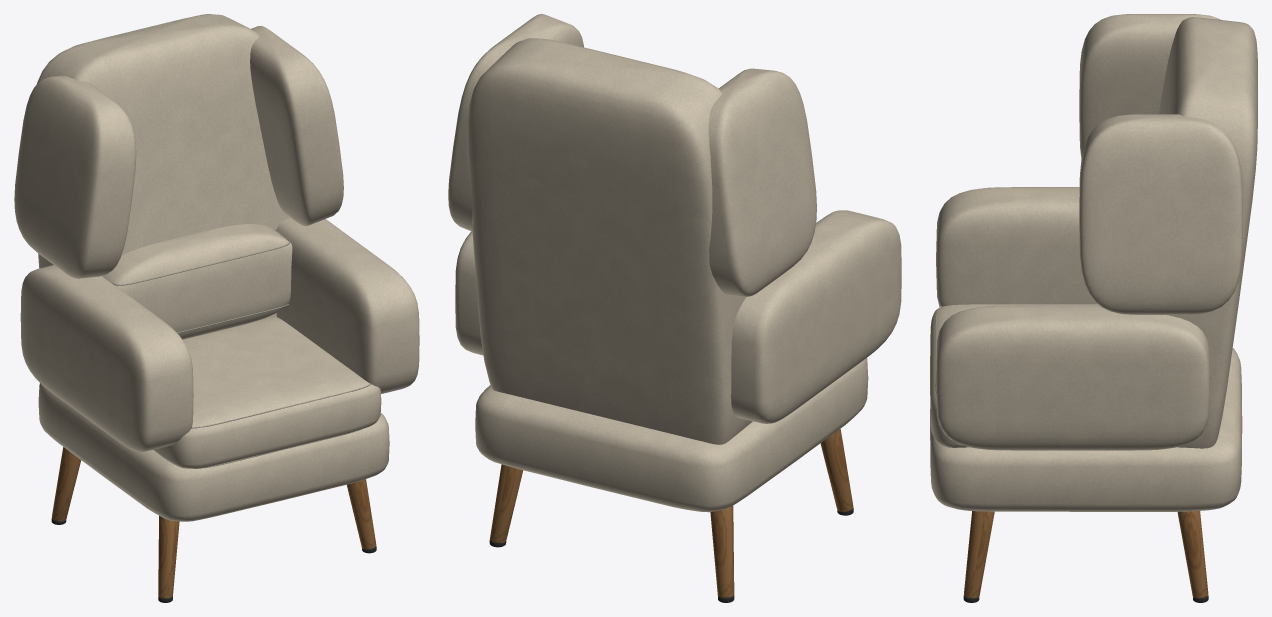
File: shelter_wingback.glb
The picture shows the model from 3 angles, left to right: view 1: azimuth 30°, elevation 25°; view 2: azimuth 150°, elevation 25°; view 3: azimuth 270°, elevation 25°; orthographic projection. The views are drawn at different scales.
Visible parts, largest first — view 1: Wingback | tall back, Wingback | rolled arm, Wingback | seat, Wingback | sculpted wing, Wingback | lower body, Wingback | rolled arm.001, Wingback | lumbar, Wingback | sculpted wing.001, Frame | tapered leg, Frame | tapered leg.001, Frame | tapered leg.002; view 2: Wingback | tall back, Wingback | lower body, Wingback | rolled arm, Wingback | sculpted wing, Wingback | sculpted wing.001, Wingback | rolled arm.001, Frame | tapered leg.001, Frame | tapered leg, Frame | tapered leg.003; view 3: Wingback | rolled arm.001, Wingback | sculpted wing.001, Wingback | lower body, Wingback | rolled arm, Wingback | tall back, Wingback | sculpted wing, Wingback | seat, Frame | tapered leg.003, Frame | tapered leg.002.
Part boxes in pixels (x1,y1,x2,y2): Wingback | tall back: (36,14,289,320); Wingback | rolled arm: (20,265,193,451); Wingback | seat: (153,317,381,468); Wingback | sculpted wing: (14,75,136,278); Wingback | lower body: (38,383,389,521); Wingback | rolled arm.001: (276,217,419,393); Wingback | lumbar: (103,224,292,339); Wingback | sculpted wing.001: (250,26,343,225); Frame | tapered leg: (158,515,179,598); Frame | tapered leg.001: (52,447,81,521); Frame | tapered leg.002: (347,479,376,549); Wingback | tall back: (467,38,752,444); Wingback | lower body: (475,358,868,512); Wingback | rolled arm: (731,210,901,423); Wingback | sculpted wing: (708,68,816,296); Wingback | sculpted wing.001: (448,14,583,231); Wingback | rolled arm.001: (455,231,483,355); Frame | tapered leg.001: (710,506,734,597); Frame | tapered leg: (820,429,853,511); Frame | tapered leg.003: (490,464,523,543); Wingback | rolled arm.001: (936,305,1210,450); Wingback | sculpted wing.001: (1079,114,1242,314); Wingback | lower body: (930,348,1242,511); Wingback | rolled arm: (936,187,1097,306); Wingback | tall back: (1159,17,1257,448); Wingback | sculpted wing: (1079,14,1220,158); Wingback | seat: (930,304,1098,447); Frame | tapered leg.003: (1177,511,1208,598); Frame | tapered leg.002: (964,511,994,598).
Size of the model in its own units: 0.89 by 1.38 by 0.8298.
4 materials, 2 textured.
